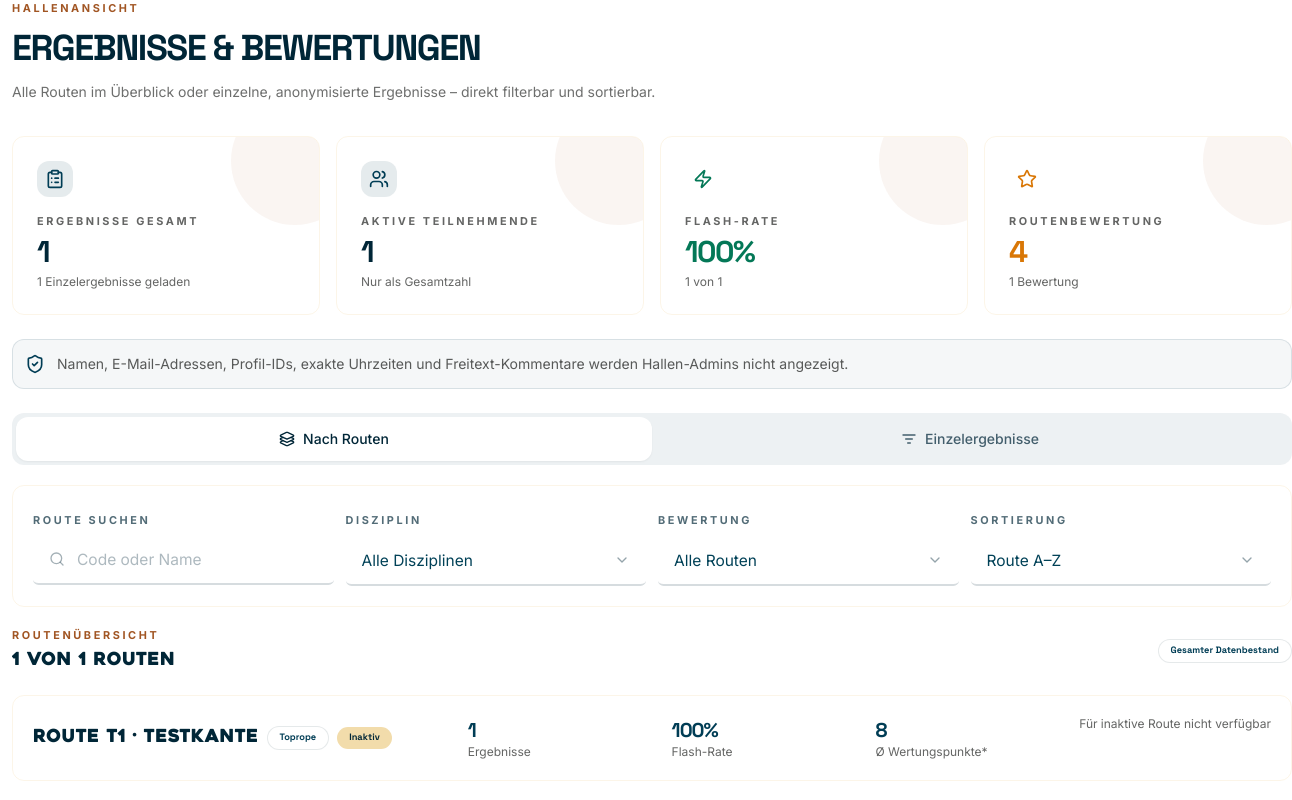
Scenario: GymResults › marks historical route ratings as unavailable instead of unrated
The width and height of the screenshot is (1292, 800).
Expected: the text "Für inaktive Route nicht verfügbar" is shown, [1079,716,1271,732]
Select "Noch nicht bewertet" in the dropdown labelled "Bewertung" at [808, 560], box [674,549,942,572]
(page scrolled)
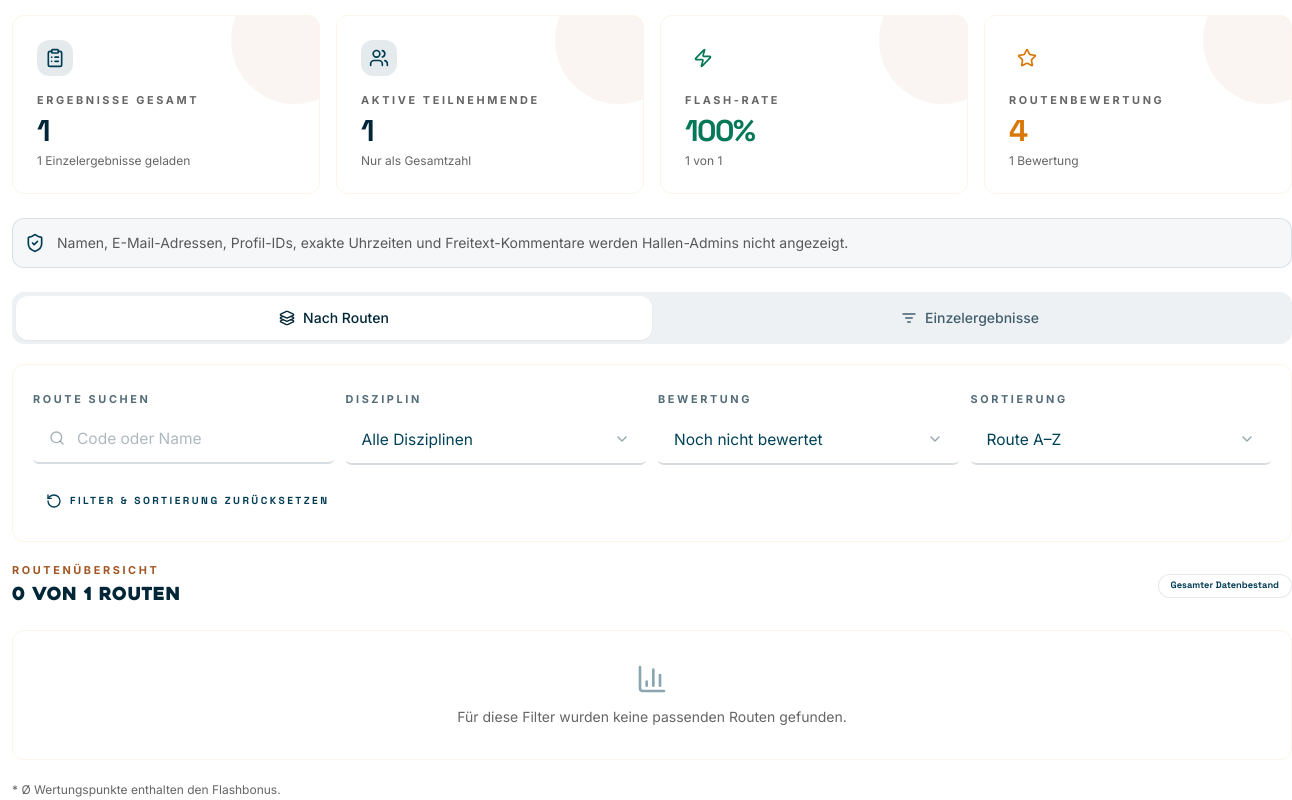
Expected: the text "Für diese Filter wurden keine passenden Routen gefunden." is shown, [457,708,847,725]
